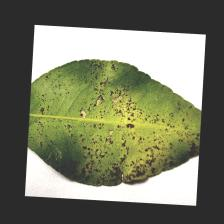canker: (63, 74, 178, 180)
